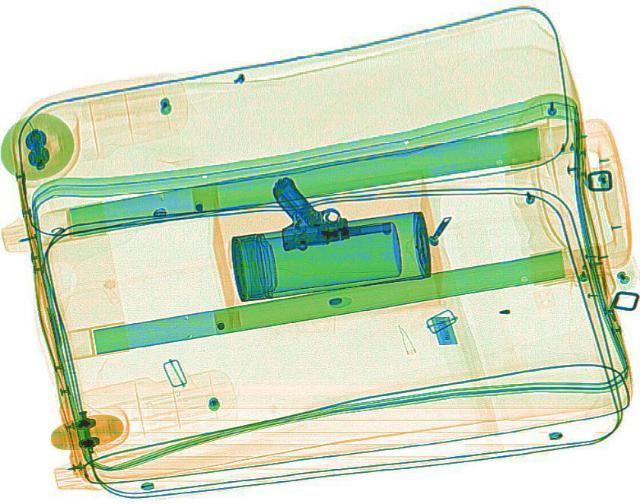Gun: (261, 162, 395, 252)
